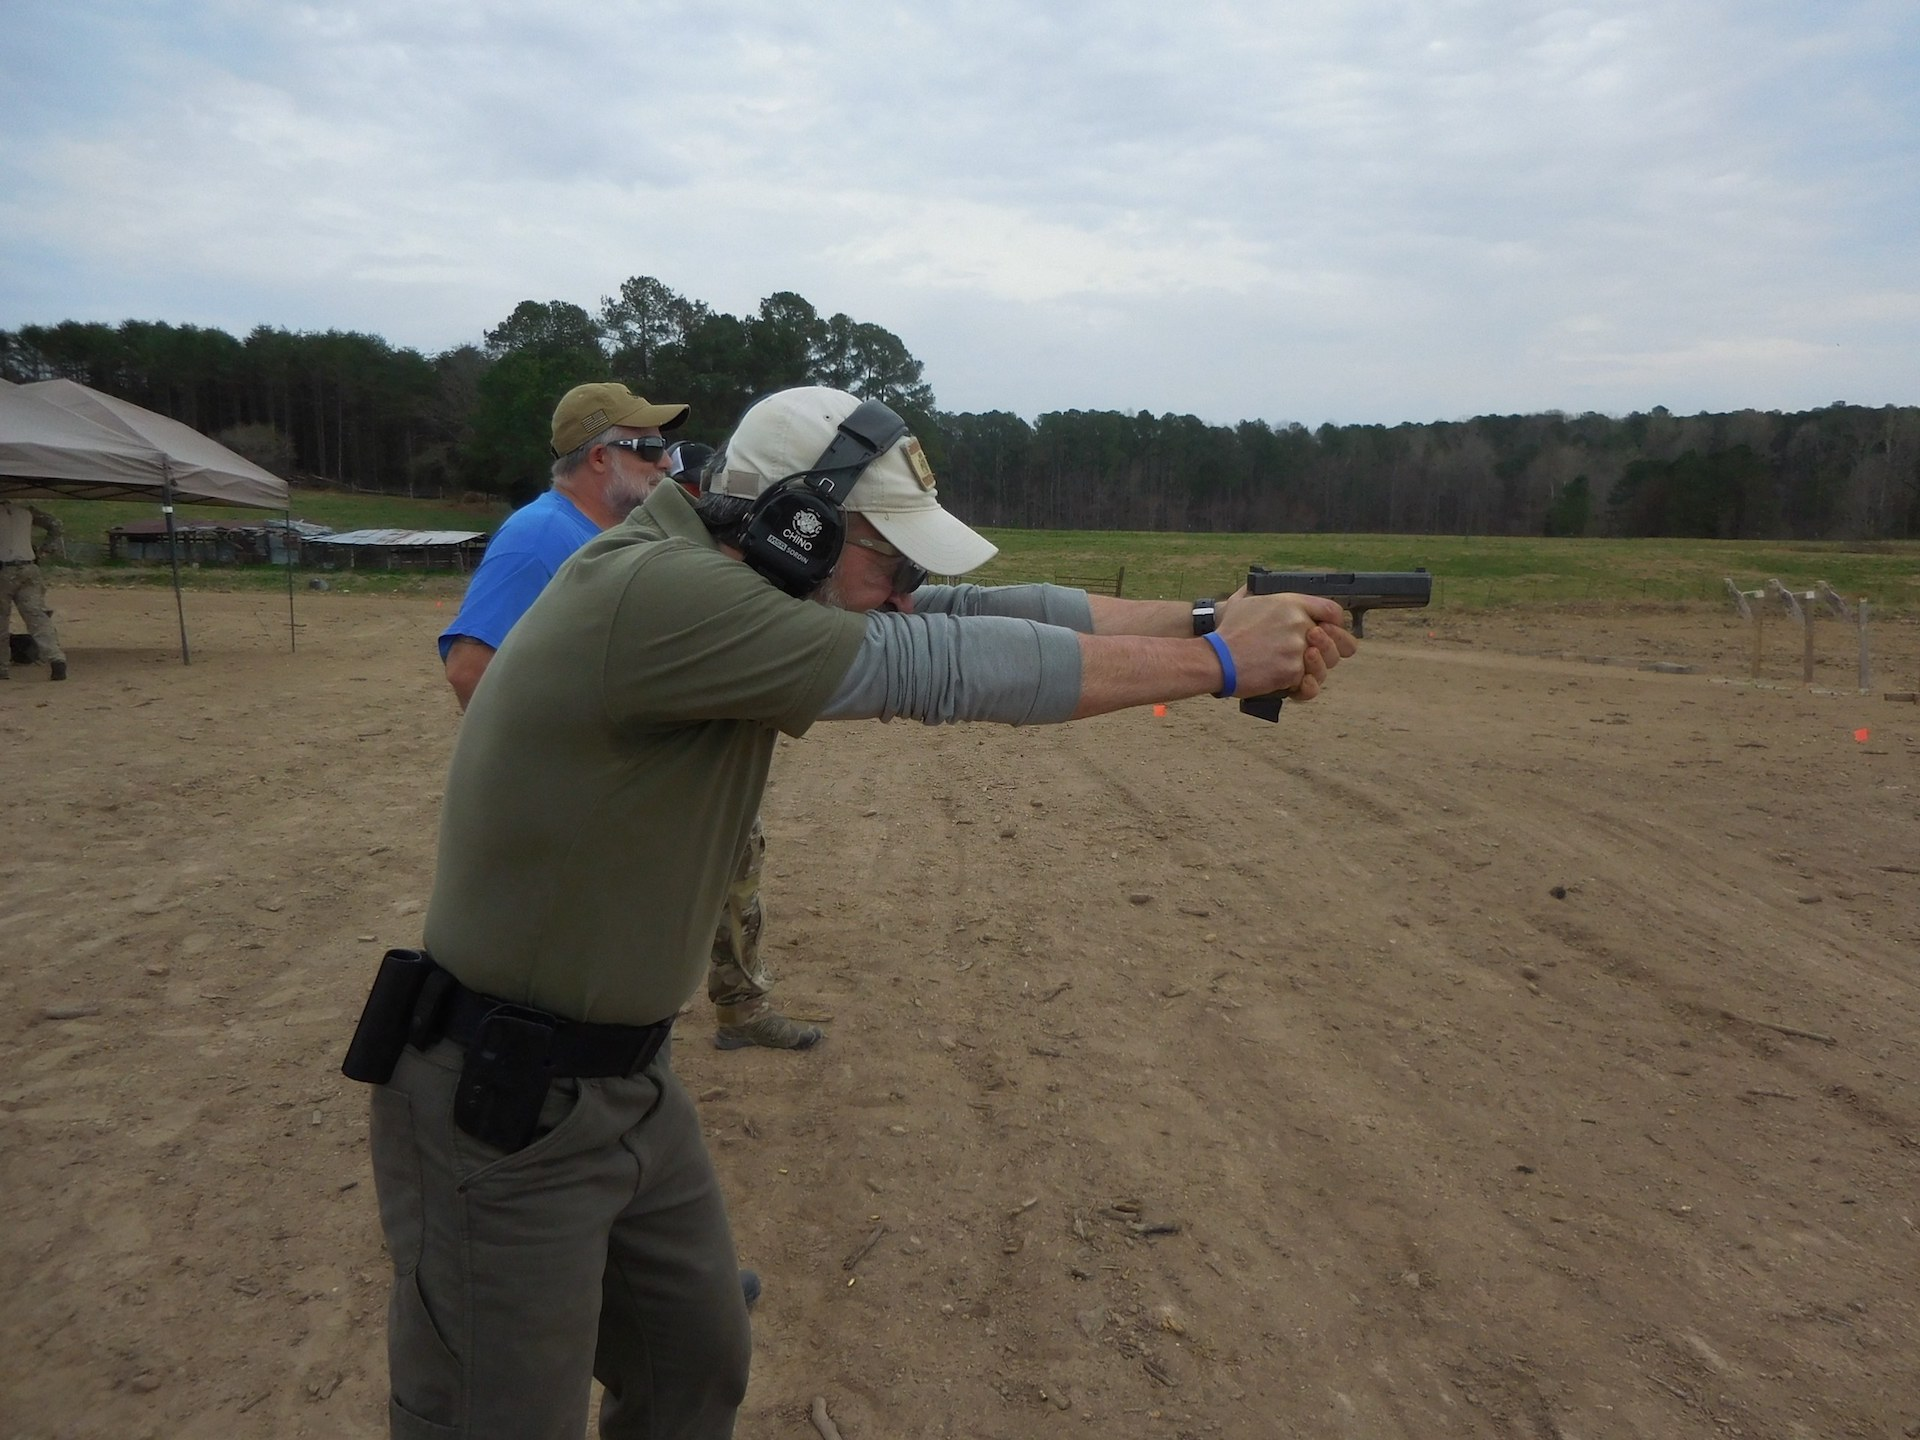pistol: (1240, 566, 1435, 725)
